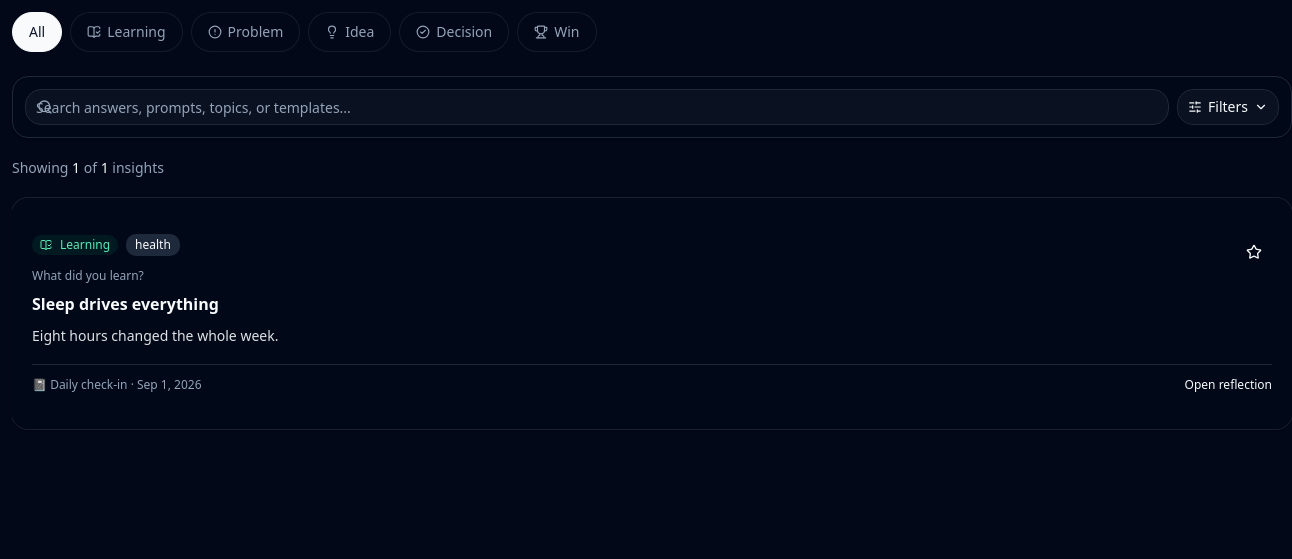
JournalInsights filters › keeps the rest of the filters out of the way until asked
This screenshot has width=1292, height=559.
Check: the field labelled "From" is not shown
Click the button "Filters": [1228, 107] box [1177,89,1279,125]
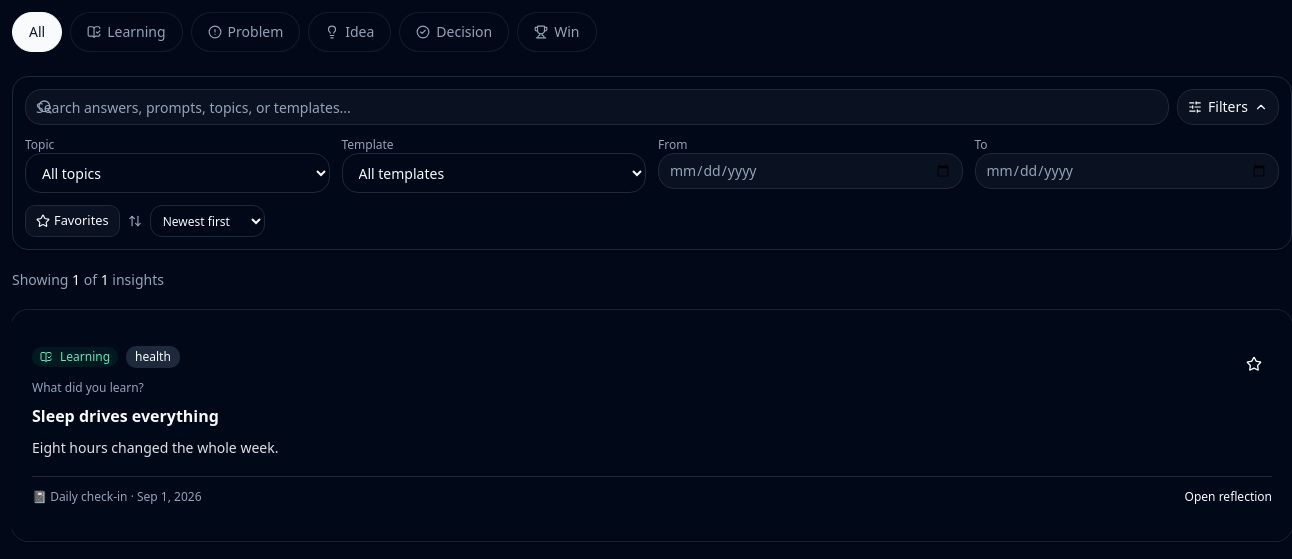
Check: the dropdown labelled "Topic" is shown, box [25,153,330,193]
Check: the dropdown labelled "Template" is shown, box [342,153,646,193]
Check: the date field labelled "From" is shown, box [658,153,962,189]
